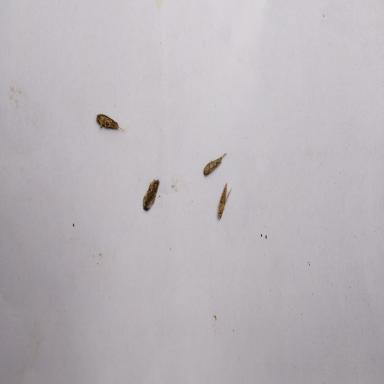pbw: (203, 152, 227, 176), (142, 178, 160, 210), (95, 113, 126, 131), (218, 182, 232, 220)
